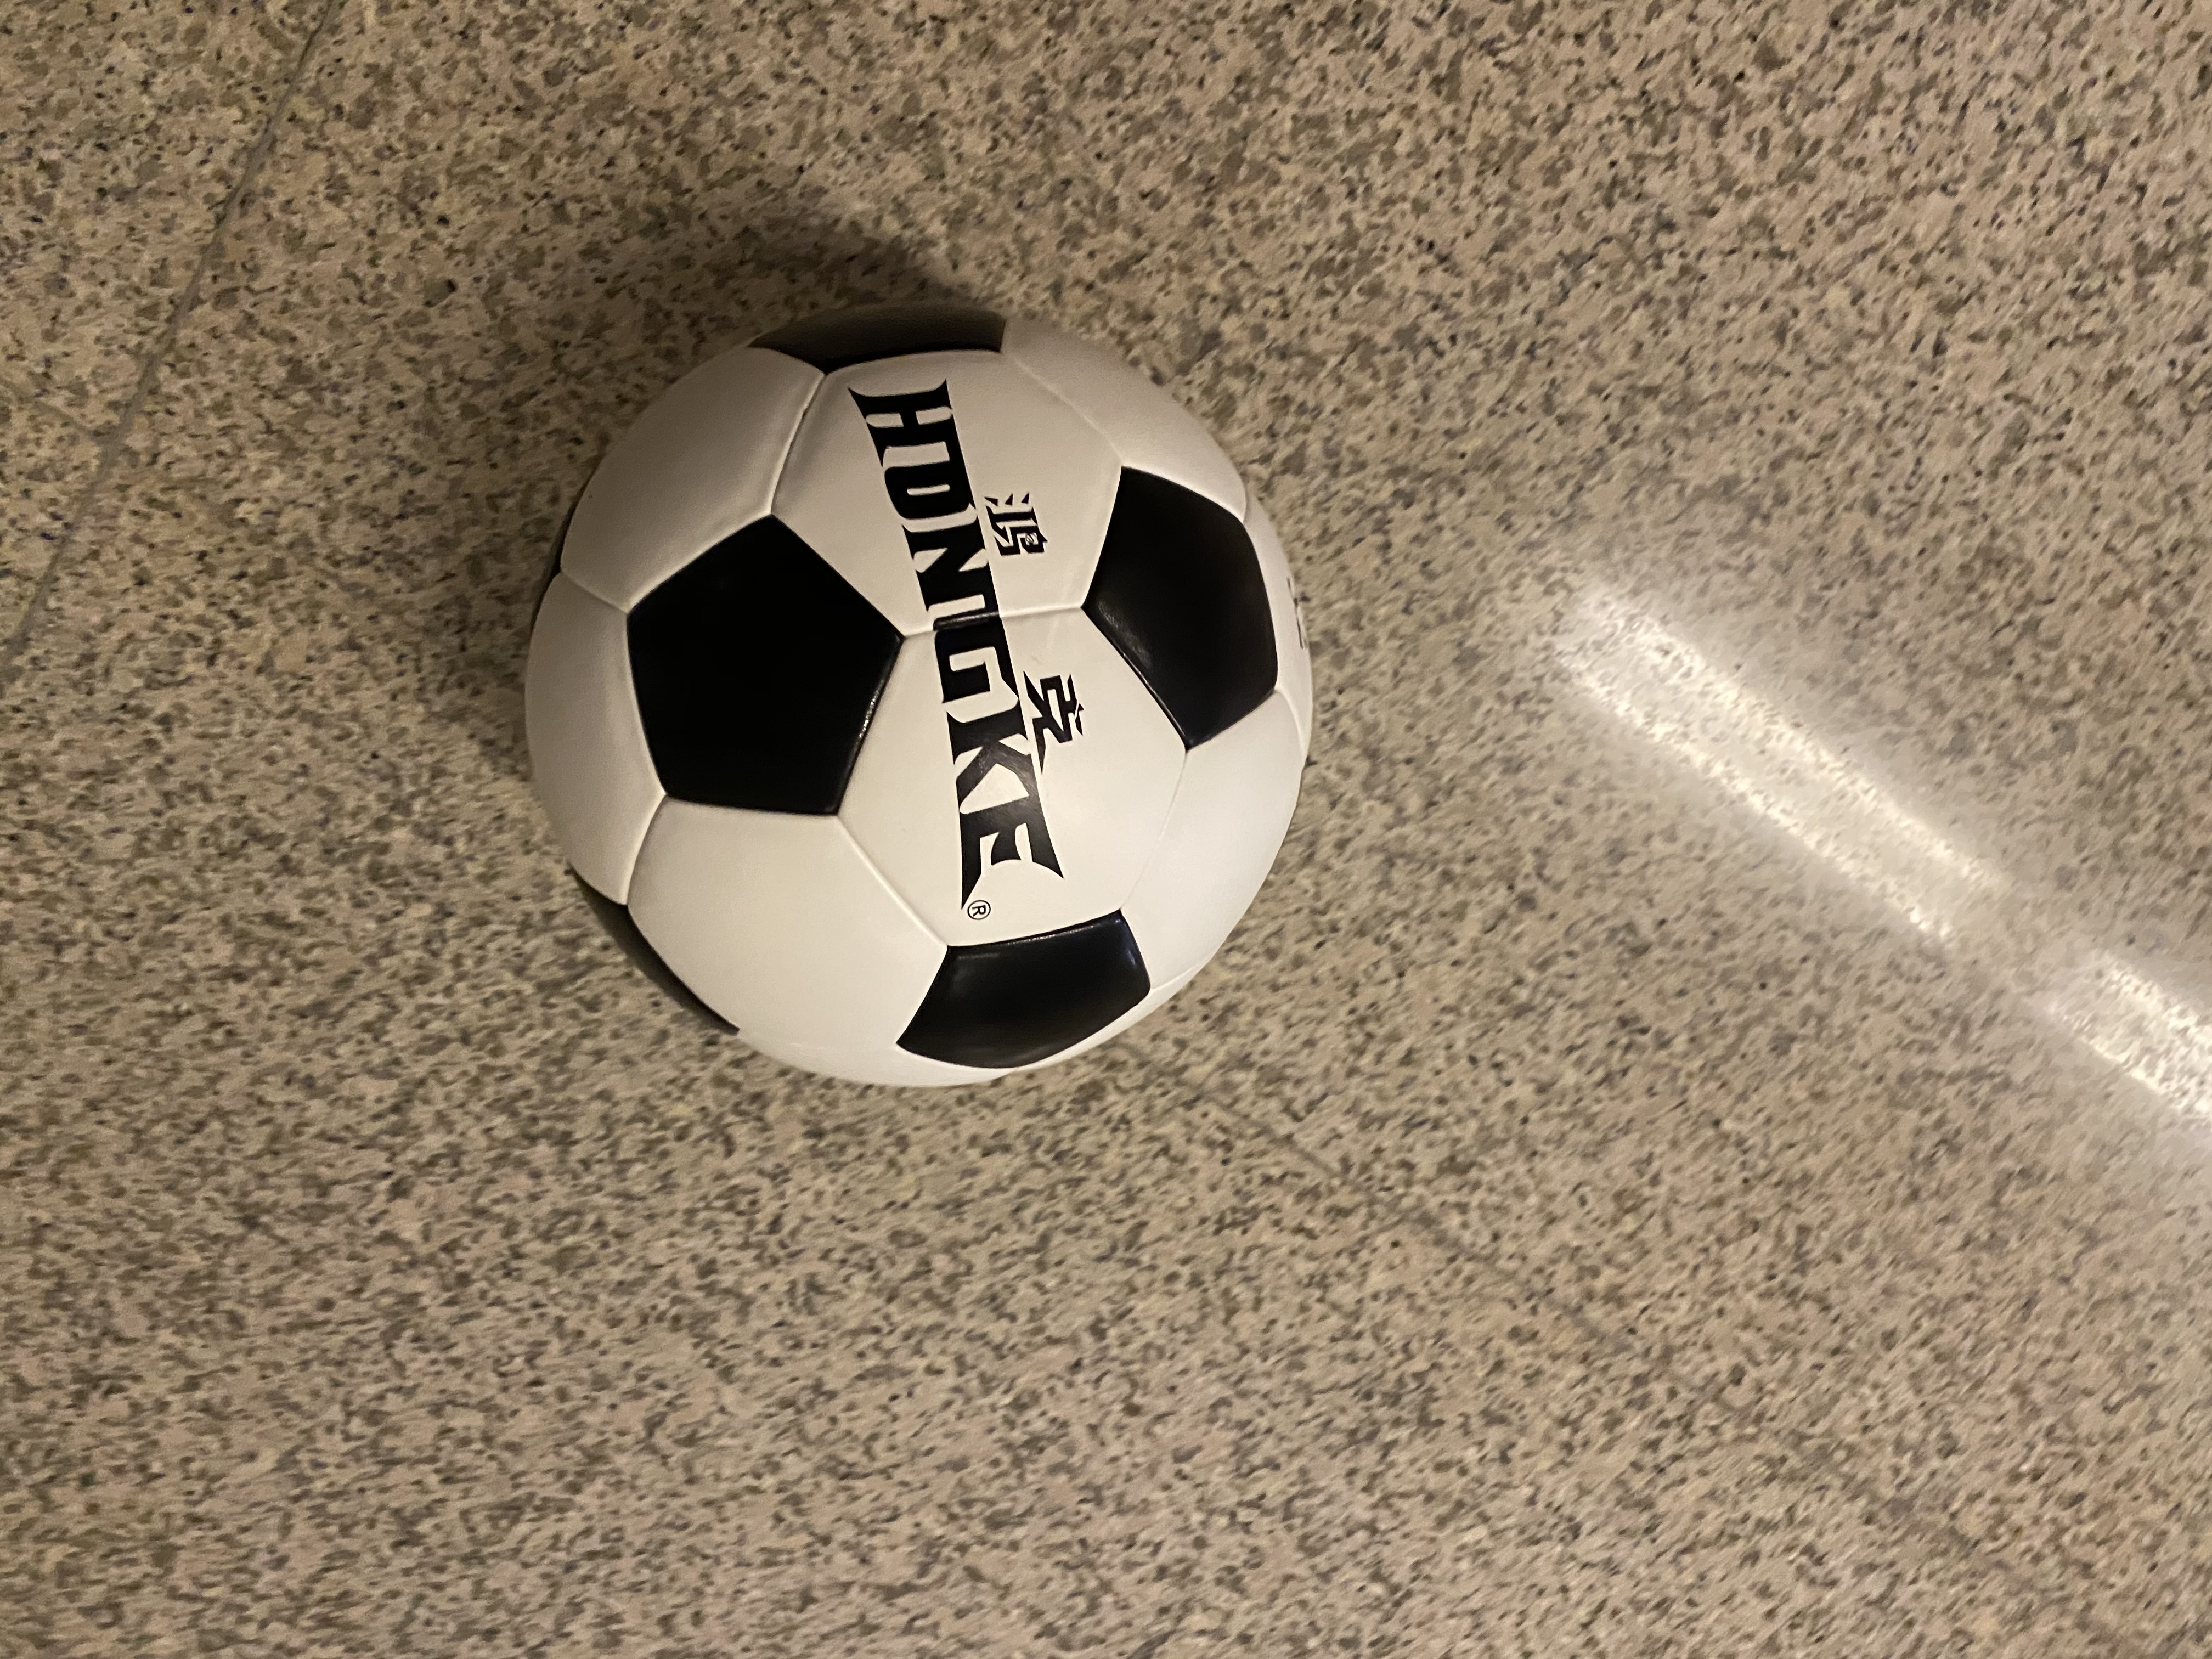football: (529, 310, 1318, 1089)
